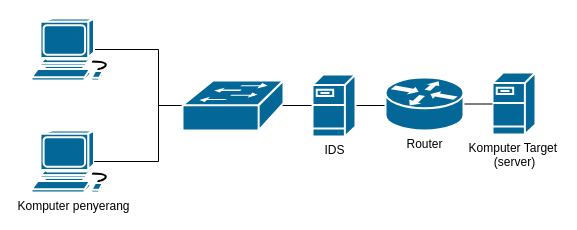
Image size: 577x230. Some labels were removed from this diagram. The shapes that lost their labels are listed below. From the top down, each one's box as (x1, y1, x2, y2) in pixels, then its label:
(30, 17, 115, 81): Komputer pengakses normal
(181, 79, 284, 131): Switch
